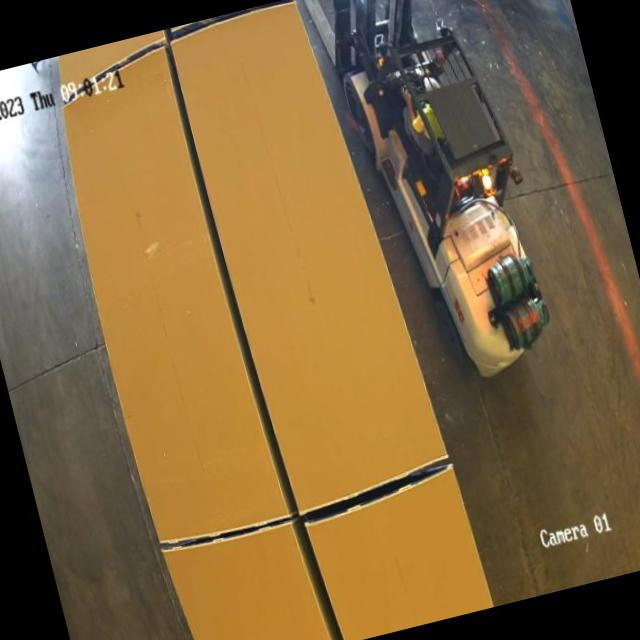driver: (392, 66, 453, 159)
forklift: (314, 0, 575, 405)
